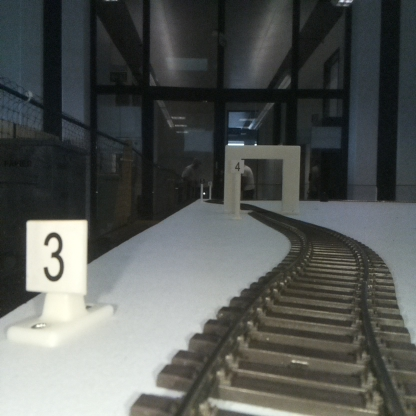white-info-4: (231, 159, 243, 217)
white-stop-3: (25, 220, 88, 338)
